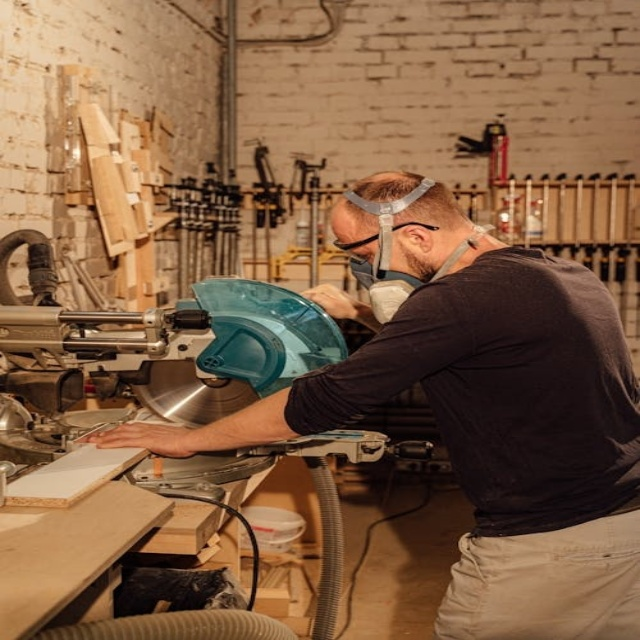Gafas: (329, 216, 444, 265)
Mascara: (338, 251, 431, 332)
Sin_guantes: (81, 412, 200, 464)
